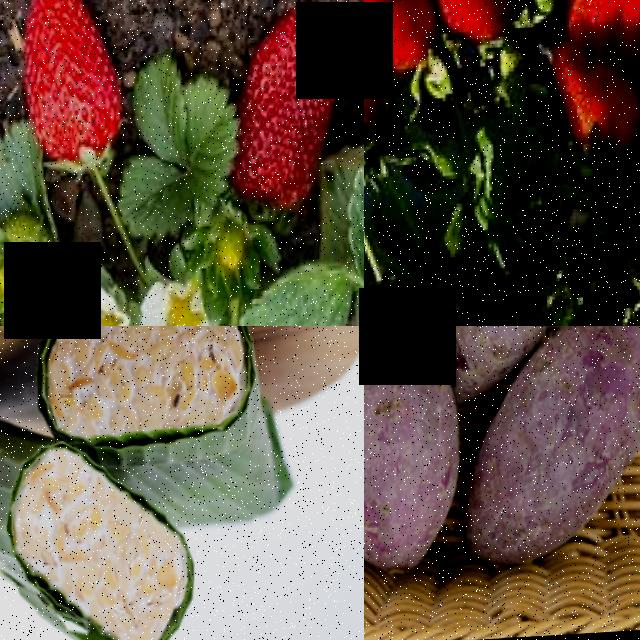strawberry: (233, 17, 317, 218), (29, 0, 120, 176), (364, 0, 420, 77), (434, 0, 513, 47)
sweet potato: (458, 395, 629, 578), (364, 326, 459, 580), (547, 326, 640, 476)
tempeh: (7, 447, 182, 640), (46, 326, 244, 450)
